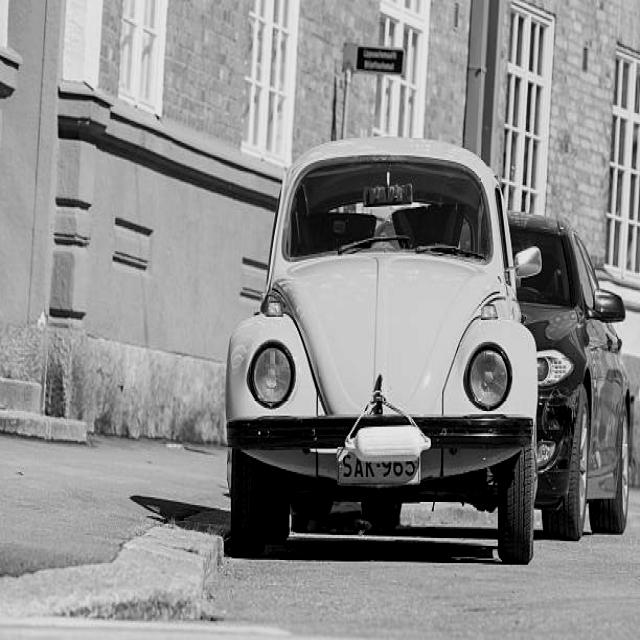car: (226, 139, 539, 555), (458, 191, 640, 525)
